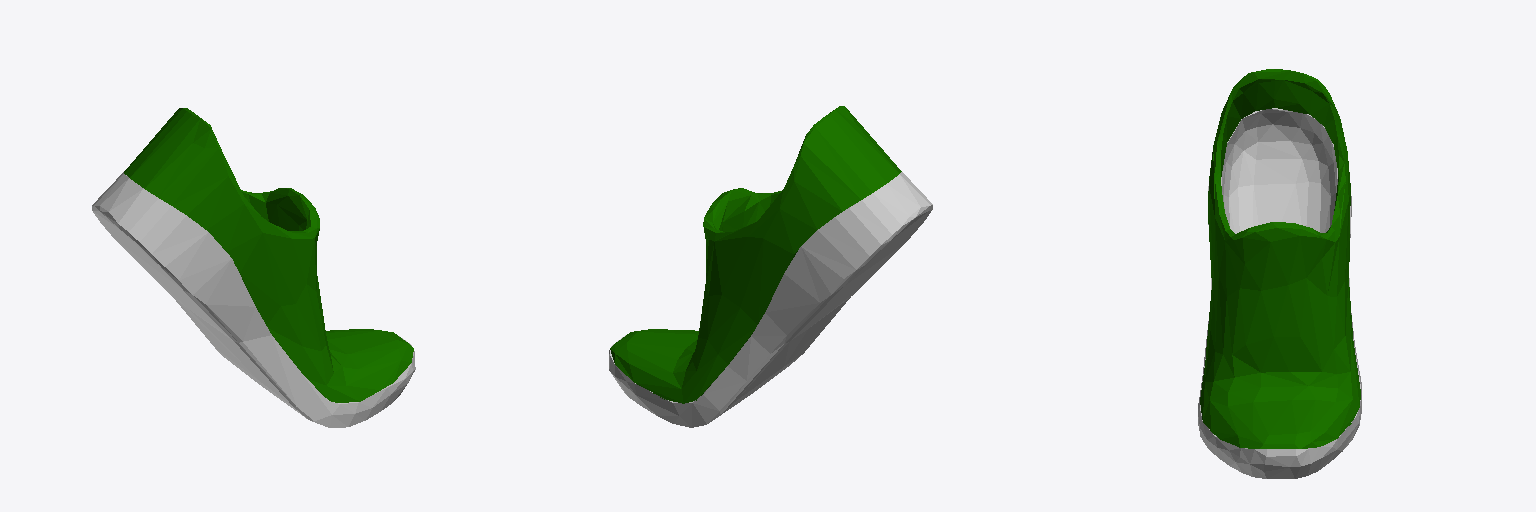
Rendered from main-shoes-lemongreen.obj.
The picture shows the model from 3 angles: view 1: azimuth 30°, elevation 25°; view 2: azimuth 150°, elevation 25°; view 3: azimuth 270°, elevation 25°; orthographic projection.
Parts seen in each view (by area): view 1: SHOES2_Cube.002, SHOES_Cube; view 2: SHOES2_Cube.002, SHOES_Cube; view 3: SHOES2_Cube.002, SHOES_Cube.
Boxes of the visible parts, x1=… form: SHOES2_Cube.002: x1=124, y1=108, x2=413, y2=402; SHOES_Cube: x1=92, y1=172, x2=415, y2=427; SHOES2_Cube.002: x1=610, y1=106, x2=901, y2=403; SHOES_Cube: x1=609, y1=172, x2=932, y2=427; SHOES2_Cube.002: x1=1200, y1=69, x2=1360, y2=448; SHOES_Cube: x1=1198, y1=108, x2=1361, y2=478.
Size of the model in its own units: 10.32 by 10.22 by 4.86.